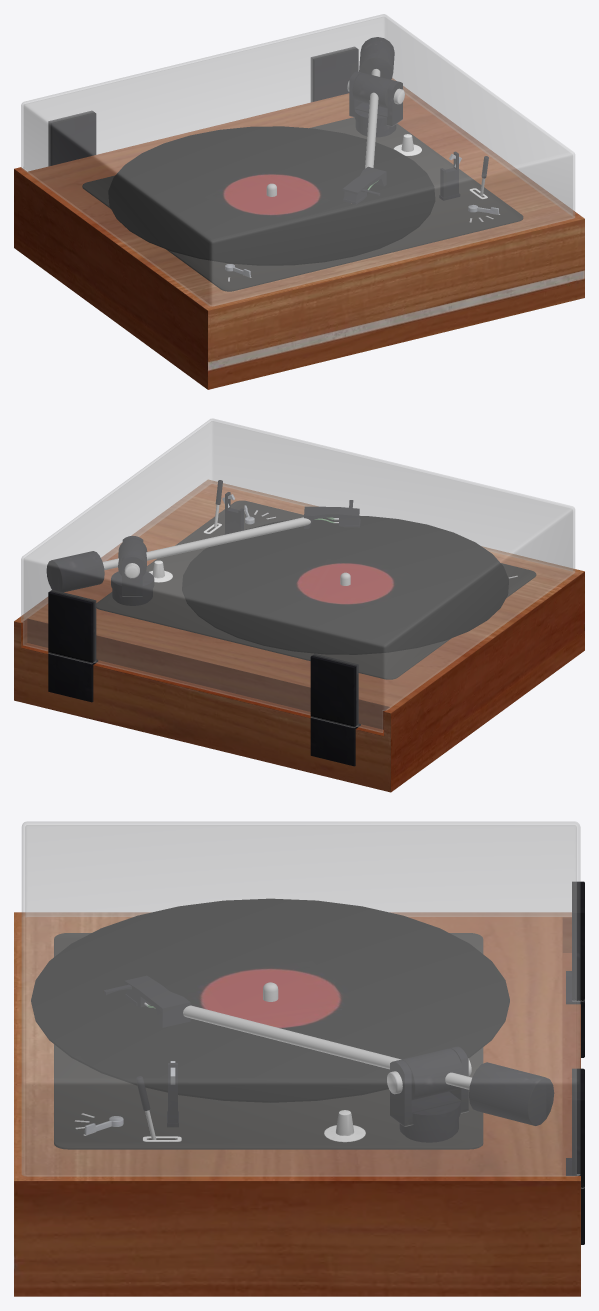
Rendered from record_player_for_vinyls.glb.
3 renders of one model, top to bottom at view 1: azimuth 30°, elevation 25°; view 2: azimuth 150°, elevation 25°; view 3: azimuth 270°, elevation 25°, orthographic. The views are drawn at different scales.
Visible parts, largest first — view 1: Cube_TapeRecorder_0, Cube.005_Glass_0; view 2: Cube_TapeRecorder_0, Cube.005_Glass_0; view 3: Cube_TapeRecorder_0, Cube.005_Glass_0.
Part boxes in pixels (<box>): Cube_TapeRecorder_0: <box>14,37,584,389</box>; Cube.005_Glass_0: <box>21,14,574,306</box>; Cube_TapeRecorder_0: <box>14,479,584,792</box>; Cube.005_Glass_0: <box>21,418,574,732</box>; Cube_TapeRecorder_0: <box>14,881,584,1296</box>; Cube.005_Glass_0: <box>22,821,580,1176</box>.
Size of the model in its own units: 223 by 82.03 by 200.
2 materials, 1 textured.
